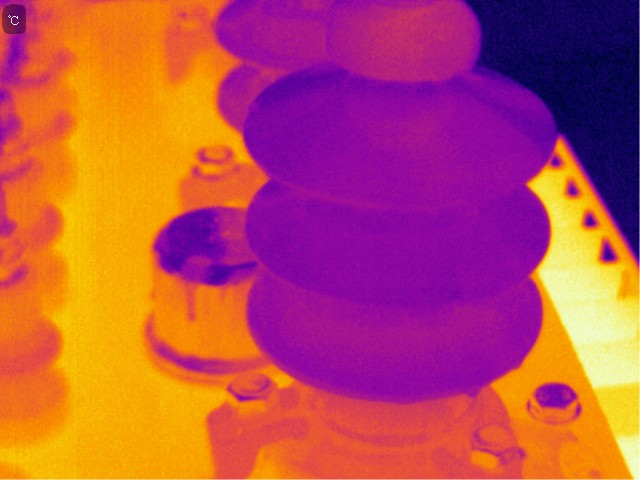Oil: (361, 94, 505, 193), (331, 3, 479, 81), (464, 382, 481, 400)
